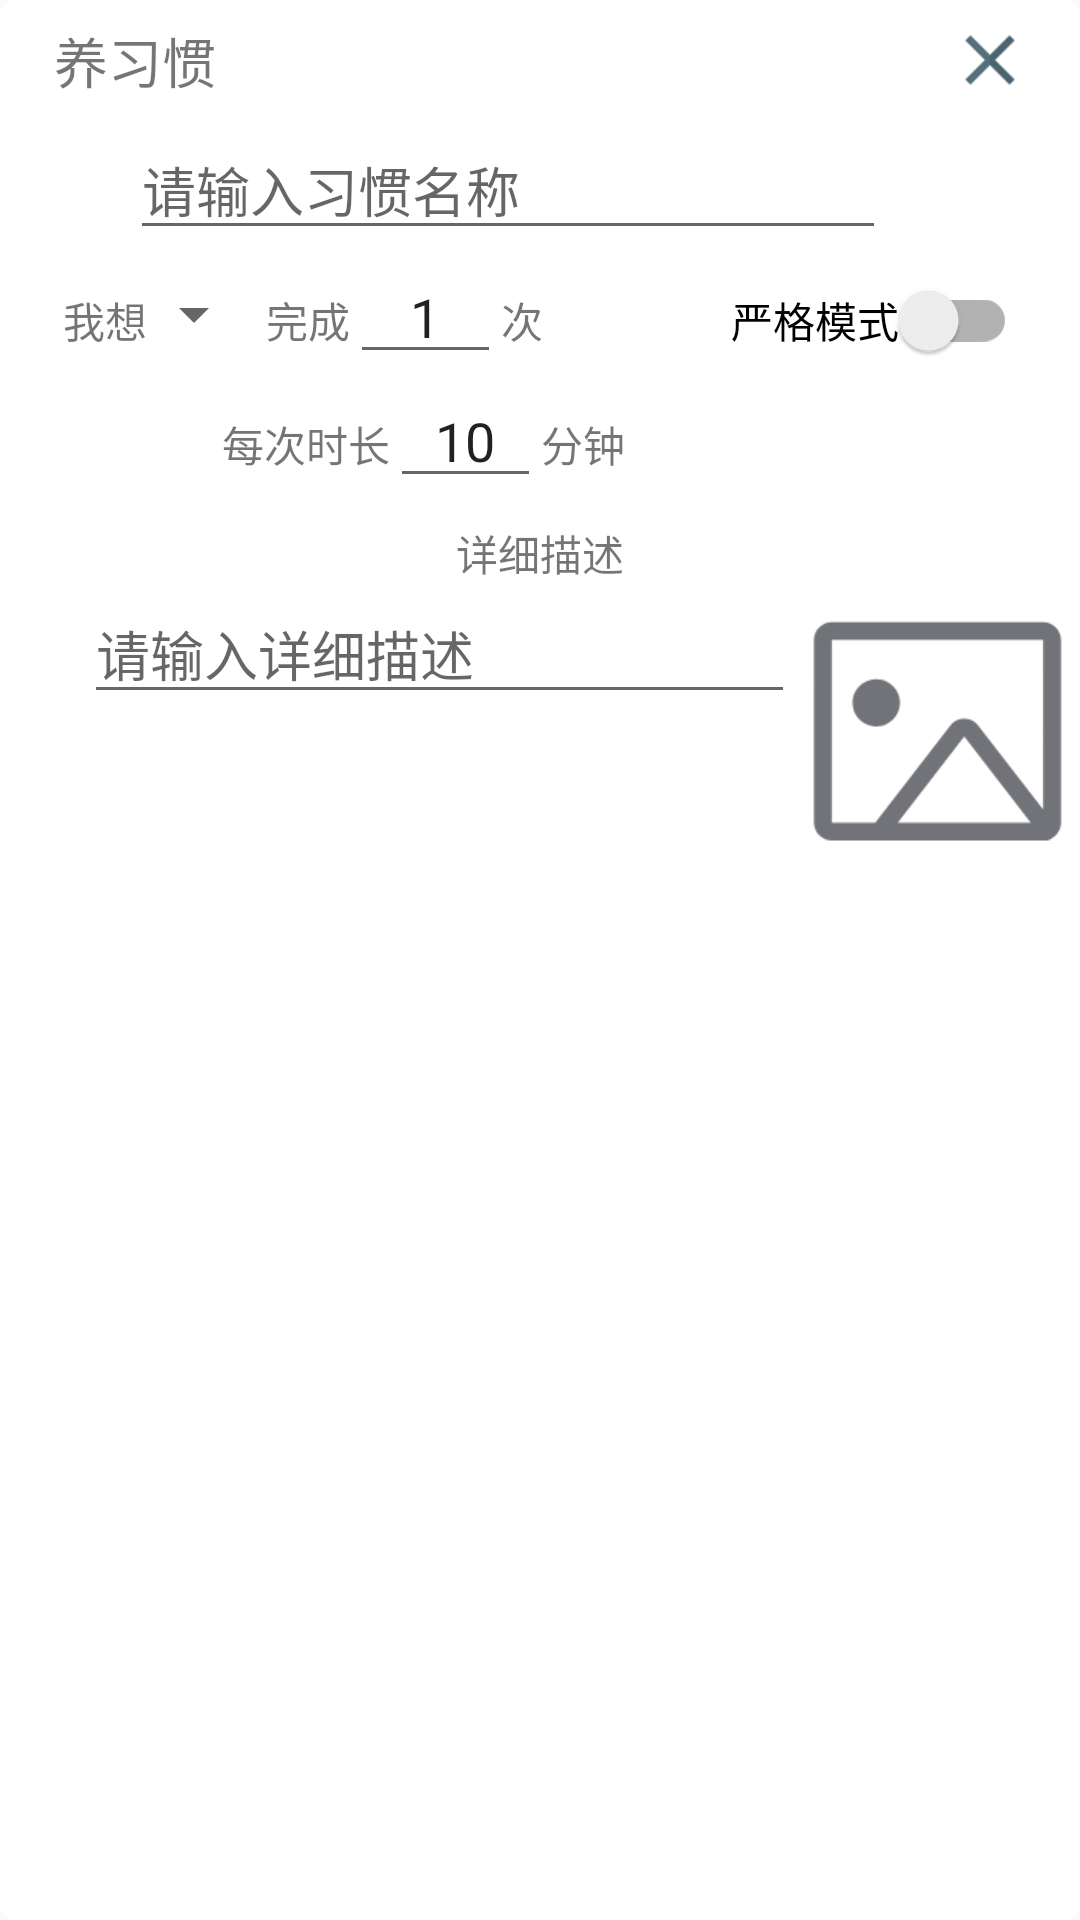

Screen size 1080px×1920px. Icon name, then its box in pixels as (x1, y1, x2, y2):
close: (965, 35, 1015, 85)
